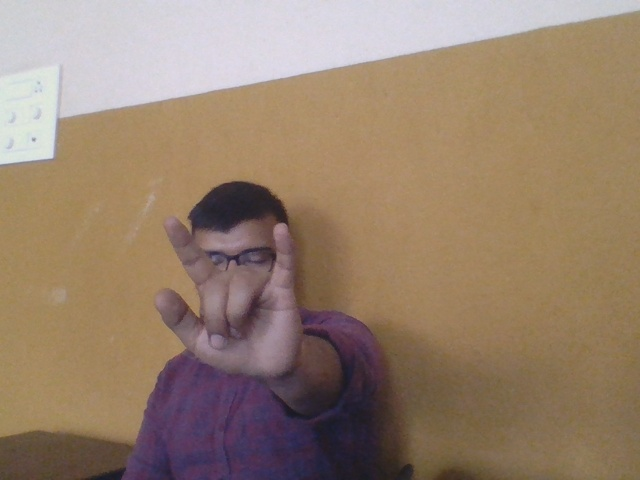I Love You: (148, 209, 316, 388)
